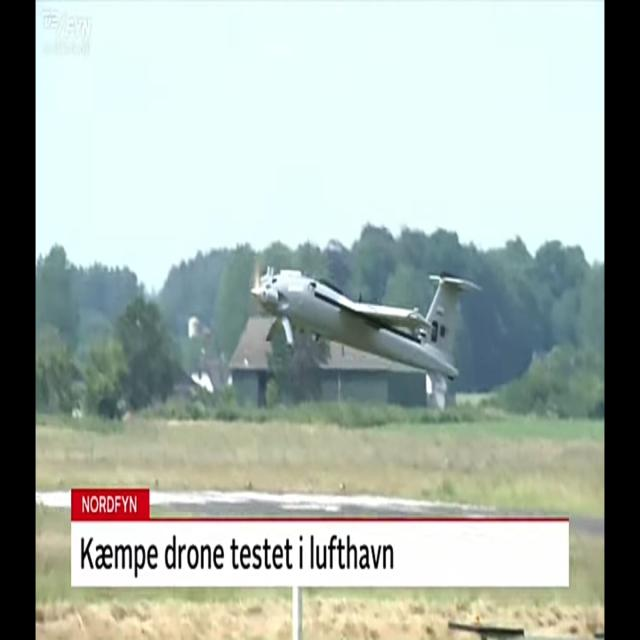iha: (249, 298, 482, 349)
